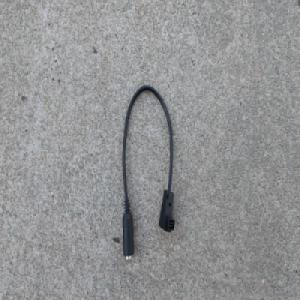Wire: (120, 83, 175, 262)
